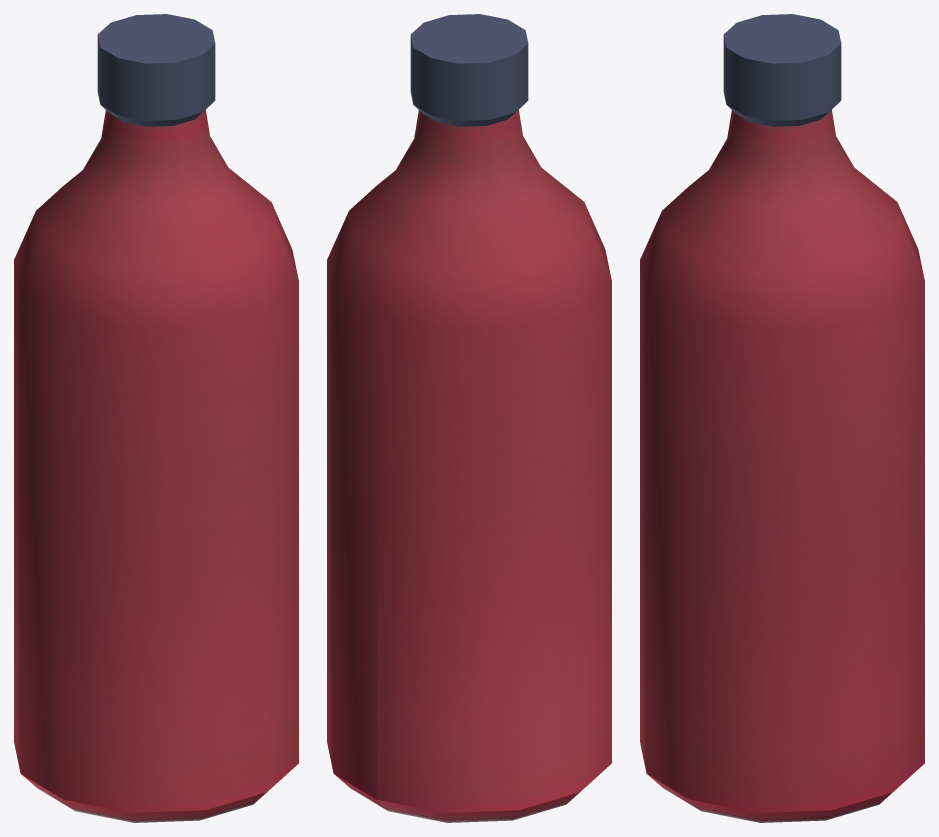
File: SM_drink_soda_07.fbx
The picture shows the model from 3 angles, left to right: view 1: azimuth 30°, elevation 25°; view 2: azimuth 150°, elevation 25°; view 3: azimuth 270°, elevation 25°; orthographic projection.
Visible parts, largest first — view 1: Cylinder070; view 2: Cylinder070; view 3: Cylinder070.
Part boxes in pixels (x1,y1,x2,y2): Cylinder070: [14, 14, 298, 822]; Cylinder070: [327, 14, 611, 822]; Cylinder070: [640, 14, 924, 822].
Bounding box in the file's own units: 9.03 × 25.6 × 9.03.
